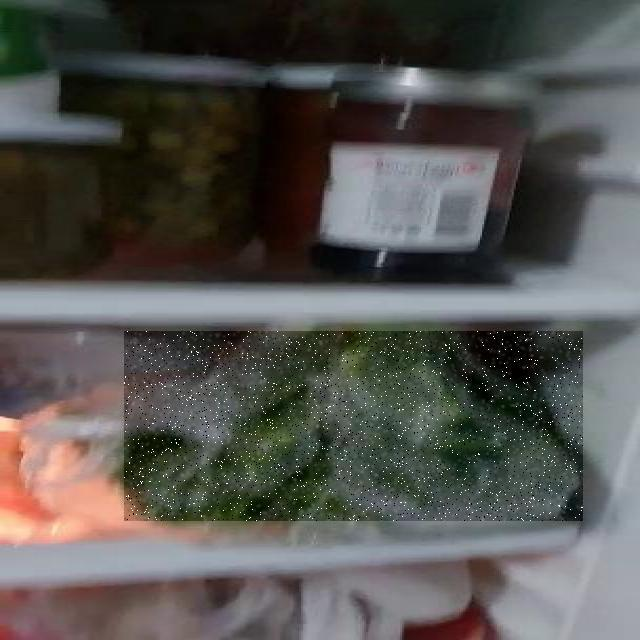Lettuce: (124, 331, 583, 521)
